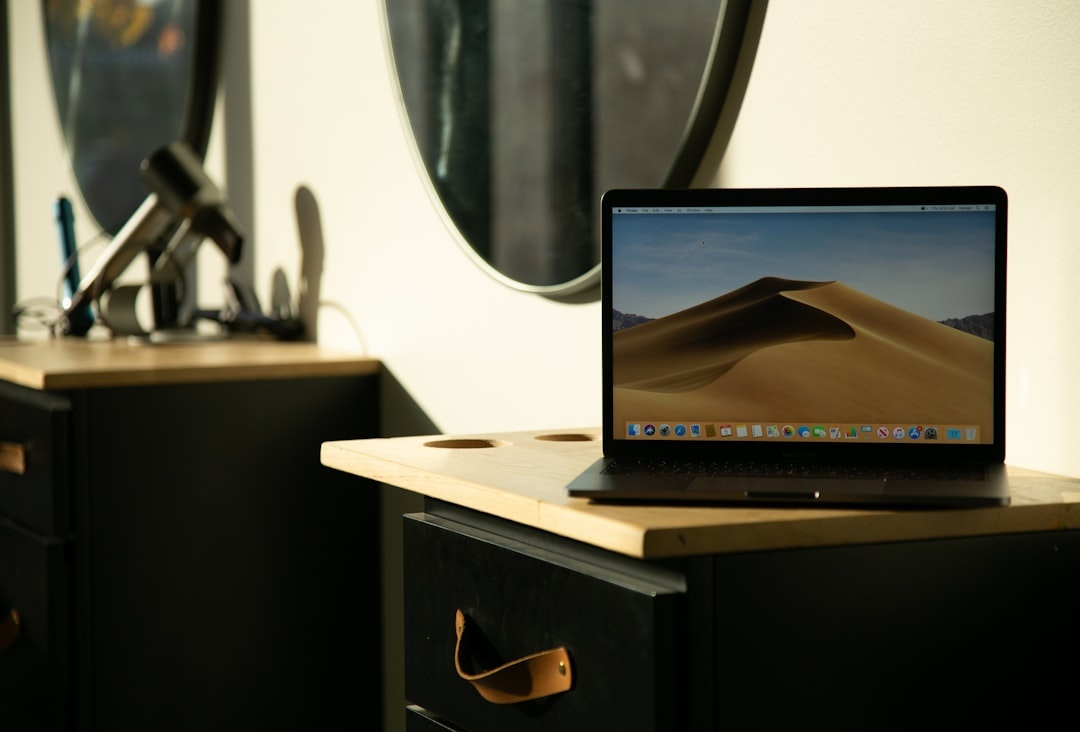laptop: (562, 171, 1057, 525)
